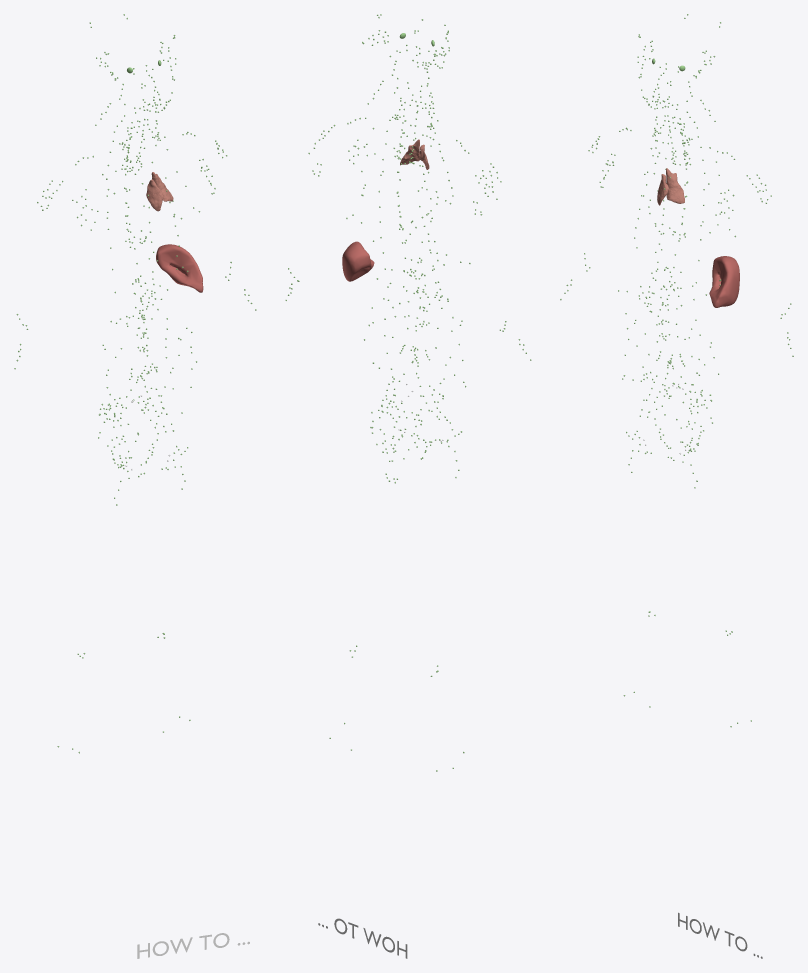
The model's file is lymphoid.glb.
3 views of the same model, side by side, from view 1: azimuth 30°, elevation 25°; view 2: azimuth 150°, elevation 25°; view 3: azimuth 330°, elevation 25° (orthographic). The views are drawn at different scales.
Visible parts, largest first — view 1: Spleen, HOW TO ...; view 2: Spleen; view 3: Spleen.
Part boxes in pixels (left/top/right/bottom): Spleen: left=156, top=244, right=203, bottom=292; HOW TO ...: left=137, top=933, right=249, bottom=958; Spleen: left=342, top=241, right=374, bottom=281; Spleen: left=709, top=256, right=739, bottom=307.
Bounding box in the file's own units: 0.4523 × 1.64 × 0.1963.
